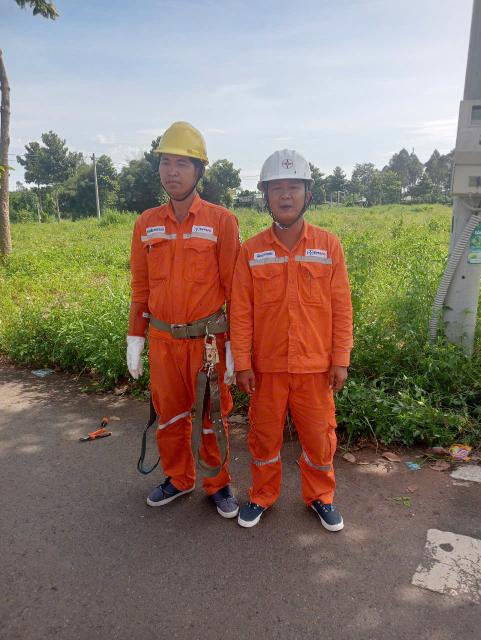gloves: (118, 326, 147, 387), (220, 332, 237, 391)
harness: (134, 297, 243, 347)
helmet: (243, 144, 332, 195), (153, 116, 217, 174)
shoes: (299, 488, 352, 537), (202, 474, 242, 527), (142, 469, 194, 509), (236, 480, 267, 532)
